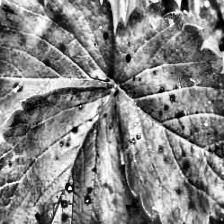Leaf Spot: (112, 0, 224, 224), (0, 86, 132, 224), (0, 0, 114, 144)
